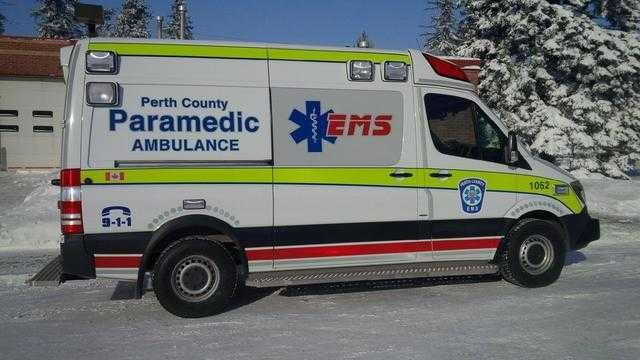car: (49, 33, 600, 318)
